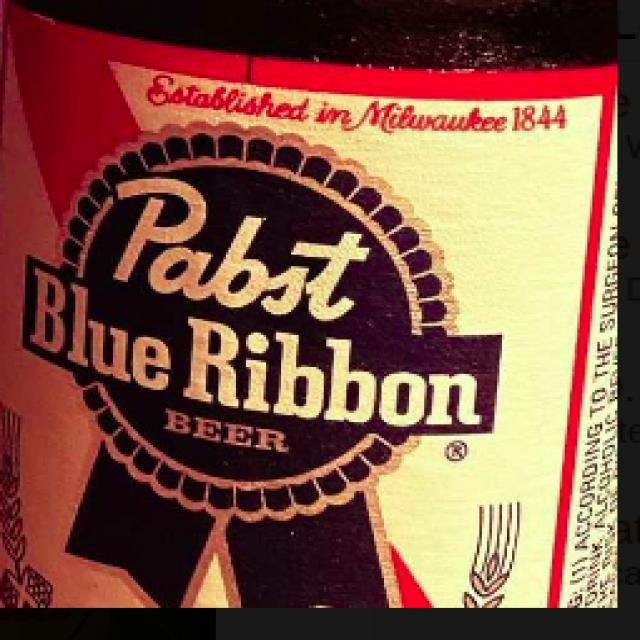Pabst Blue Ribbon: (2, 2, 640, 639)
